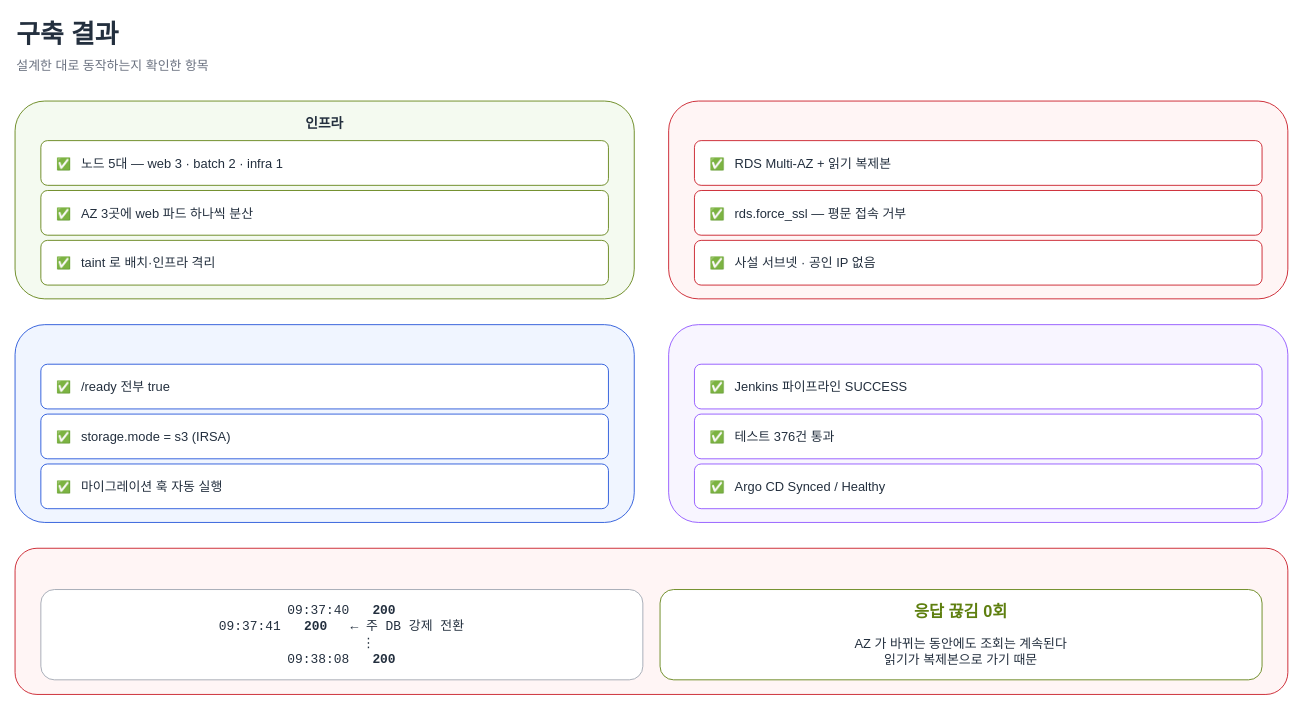
This 1303x710 diagram has some shape labels left out. The shapes that lost their labels are listed below. From the top down, each one's box as (x1, y1, x2, y2) in pixels, then its label:
(668, 100, 1288, 299): 데이터베이스
(14, 324, 634, 522): 애플리케이션
(668, 324, 1288, 522): CI / CD
(14, 547, 1288, 694): 🔴 시연 — RDS 페일오버
